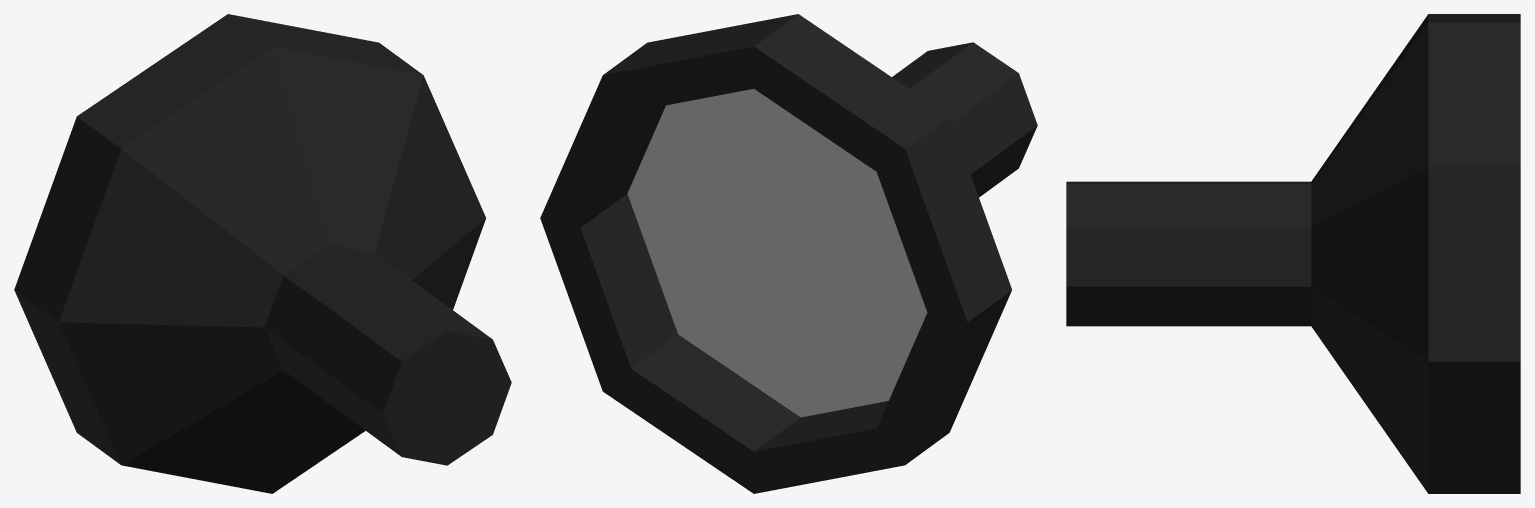
The model's file is exhaust2.glb.
The picture shows the model from 3 angles, left to right: view 1: azimuth 30°, elevation 25°; view 2: azimuth 150°, elevation 25°; view 3: azimuth 270°, elevation 25°; orthographic projection. The views are drawn at different scales.
Parts seen in each view (by area): view 1: exhaust2; view 2: exhaust2; view 3: exhaust2.
Part boxes in pixels (x1,y1,x2,y2): exhaust2: (14, 14, 511, 493); exhaust2: (540, 14, 1037, 493); exhaust2: (1066, 14, 1520, 493).
Bounding box in the file's own units: 0.7221 × 0.7221 × 0.6418.
1 material, 1 textured.
